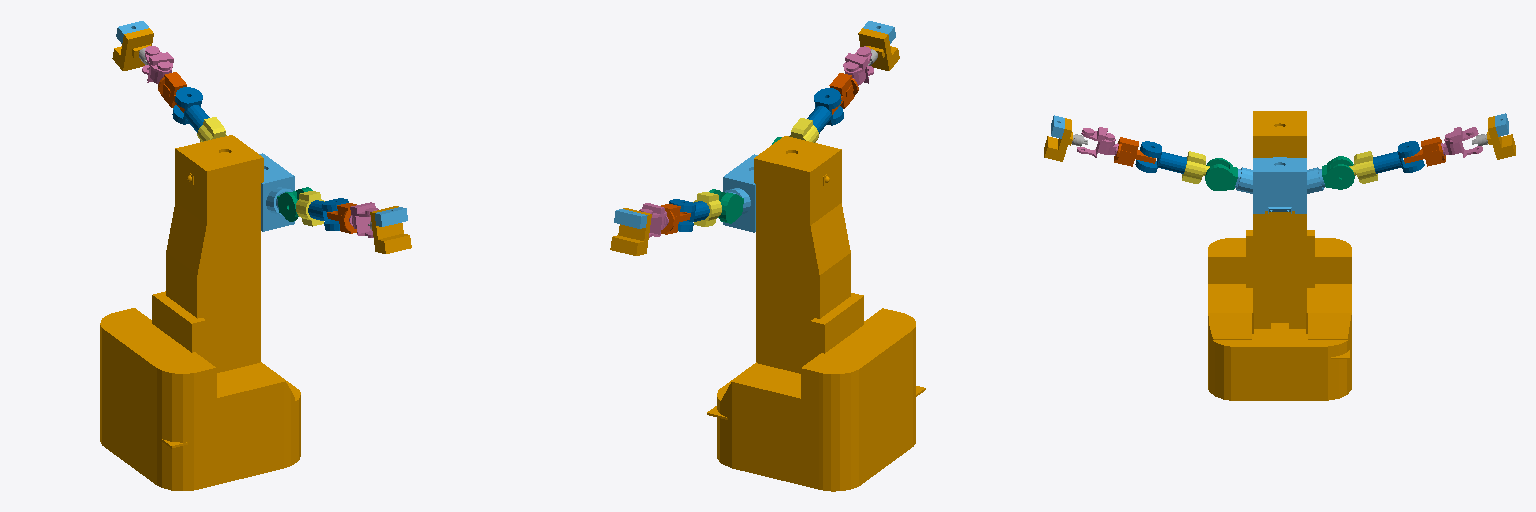
robot.urdf — generated_robot:
<?xml version='1.0' encoding='utf-8'?>
<robot name="generated_robot">
  <link name="base_link">
    <inertial>
      <origin xyz="-0.035891877 -0.00063976382 0.2219163" rpy="0 0 0" />
      <mass value="979.84111" />
      <inertia ixx="289.50041" iyy="287.10522" izz="131.53072" ixy="0.03875322" ixz="-6.4197523" iyz="-0.18155826" />
    </inertial>
    <visual>
      <origin xyz="0 0 0" rpy="0 0 0" />
      <geometry>
        <mesh filename="meshes/part_001_solid_001.stl" scale="0.001 0.001 0.001" />
      </geometry>
    </visual>
    <visual>
      <origin xyz="0 0 0" rpy="0 0 0" />
      <geometry>
        <mesh filename="meshes/part_004_solid_004.stl" scale="0.001 0.001 0.001" />
      </geometry>
    </visual>
    <collision>
      <origin xyz="0 0 0" rpy="0 0 0" />
      <geometry>
        <mesh filename="meshes/part_001_solid_001.stl" scale="0.001 0.001 0.001" />
      </geometry>
    </collision>
    <collision>
      <origin xyz="0 0 0" rpy="0 0 0" />
      <geometry>
        <mesh filename="meshes/part_004_solid_004.stl" scale="0.001 0.001 0.001" />
      </geometry>
    </collision>
  </link>
  <link name="up and down_link">
    <inertial>
      <origin xyz="0.23031115 0 0.32236372" rpy="0 0 0" />
      <mass value="40.56585" />
      <inertia ixx="1.1187893" iyy="0.82689098" izz="1.184021" ixy="0.00048364865" ixz="0.012063475" iyz="-6.4491176e-12" />
    </inertial>
    <visual>
      <origin xyz="-0.174 0 1.66" rpy="-3.1415927 0 0" />
      <geometry>
        <mesh filename="meshes/part_002_solid_002.stl" scale="0.001 0.001 0.001" />
      </geometry>
    </visual>
    <visual>
      <origin xyz="-0.174 0 1.66" rpy="-3.1415927 0 0" />
      <geometry>
        <mesh filename="meshes/part_003_solid_003.stl" scale="0.001 0.001 0.001" />
      </geometry>
    </visual>
    <visual>
      <origin xyz="-0.174 0 1.66" rpy="-3.1415927 0 0" />
      <geometry>
        <mesh filename="meshes/part_015_solid_015.stl" scale="0.001 0.001 0.001" />
      </geometry>
    </visual>
    <visual>
      <origin xyz="-0.174 0 1.66" rpy="-3.1415927 0 0" />
      <geometry>
        <mesh filename="meshes/part_005_solid_005.stl" scale="0.001 0.001 0.001" />
      </geometry>
    </visual>
    <collision>
      <origin xyz="-0.174 0 1.66" rpy="-3.1415927 0 0" />
      <geometry>
        <mesh filename="meshes/part_002_solid_002.stl" scale="0.001 0.001 0.001" />
      </geometry>
    </collision>
    <collision>
      <origin xyz="-0.174 0 1.66" rpy="-3.1415927 0 0" />
      <geometry>
        <mesh filename="meshes/part_003_solid_003.stl" scale="0.001 0.001 0.001" />
      </geometry>
    </collision>
    <collision>
      <origin xyz="-0.174 0 1.66" rpy="-3.1415927 0 0" />
      <geometry>
        <mesh filename="meshes/part_015_solid_015.stl" scale="0.001 0.001 0.001" />
      </geometry>
    </collision>
    <collision>
      <origin xyz="-0.174 0 1.66" rpy="-3.1415927 0 0" />
      <geometry>
        <mesh filename="meshes/part_005_solid_005.stl" scale="0.001 0.001 0.001" />
      </geometry>
    </collision>
  </link>
  <link name="left_link1">
    <inertial>
      <origin xyz="-0.017588 0.002883761 0.13899444" rpy="0 0 0" />
      <mass value="11.831" />
      <inertia ixx="0.049622545" iyy="0.049222129" izz="0.041085099" ixy="5.5803149e-06" ixz="-0.0031526704" iyz="-0.0026717967" />
    </inertial>
    <visual>
      <origin xyz="-0.44 1.2660863 -0.64003822" rpy="1.3089969 0 0" />
      <geometry>
        <mesh filename="meshes/part_006_solid_006.stl" scale="0.001 0.001 0.001" />
      </geometry>
    </visual>
    <collision>
      <origin xyz="-0.44 1.2660863 -0.64003822" rpy="1.3089969 0 0" />
      <geometry>
        <mesh filename="meshes/part_006_solid_006.stl" scale="0.001 0.001 0.001" />
      </geometry>
    </collision>
  </link>
  <link name="left_link2">
    <inertial>
      <origin xyz="0.16343723 0.040788935 3.4e-05" rpy="0 0 0" />
      <mass value="8.774" />
      <inertia ixx="0.02972471" iyy="0.036476221" izz="0.045544007" ixy="0.001951729" ixz="-3.9166e-05" iyz="-1.035e-05" />
    </inertial>
    <visual>
      <origin xyz="-0.43583677 -1.4275311 -0.43819" rpy="0 -1.5707963 -1.5707963" />
      <geometry>
        <mesh filename="meshes/part_007_solid_007.stl" scale="0.001 0.001 0.001" />
      </geometry>
    </visual>
    <collision>
      <origin xyz="-0.43583677 -1.4275311 -0.43819" rpy="0 -1.5707963 -1.5707963" />
      <geometry>
        <mesh filename="meshes/part_007_solid_007.stl" scale="0.001 0.001 0.001" />
      </geometry>
    </collision>
  </link>
  <link name="left_link3">
    <inertial>
      <origin xyz="3.2e-05 0.0083087217 0.23375814" rpy="0 0 0" />
      <mass value="9.328" />
      <inertia ixx="0.066434904" iyy="0.055916807" izz="0.035433841" ixy="7.18277e-06" ixz="1.3426458e-05" iyz="-0.015437853" />
    </inertial>
    <visual>
      <origin xyz="-0.43819 1.2660863 -1.0364582" rpy="1.3089969 0 0" />
      <geometry>
        <mesh filename="meshes/part_008_solid_008.stl" scale="0.001 0.001 0.001" />
      </geometry>
    </visual>
    <collision>
      <origin xyz="-0.43819 1.2660863 -1.0364582" rpy="1.3089969 0 0" />
      <geometry>
        <mesh filename="meshes/part_008_solid_008.stl" scale="0.001 0.001 0.001" />
      </geometry>
    </collision>
  </link>
  <link name="left_link4">
    <inertial>
      <origin xyz="7.748689e-05 0.1884245 -0.087878585" rpy="0 0 0" />
      <mass value="3.715" />
      <inertia ixx="0.016589853" iyy="0.010227701" izz="0.012859449" ixy="5.454538e-07" ixz="8.4564068e-07" iyz="0.001262136" />
    </inertial>
    <visual>
      <origin xyz="-0.43814751 -1.2964582 -1.3490863" rpy="-0.26179939 0 0" />
      <geometry>
        <mesh filename="meshes/part_009_solid_009.stl" scale="0.001 0.001 0.001" />
      </geometry>
    </visual>
    <collision>
      <origin xyz="-0.43814751 -1.2964582 -1.3490863" rpy="-0.26179939 0 0" />
      <geometry>
        <mesh filename="meshes/part_009_solid_009.stl" scale="0.001 0.001 0.001" />
      </geometry>
    </collision>
  </link>
  <link name="left_link5">
    <inertial>
      <origin xyz="-0.0017945131 -0.019052905 0.10062789" rpy="0 0 0" />
      <mass value="3.025" />
      <inertia ixx="0.01246249" iyy="0.0093224911" izz="0.0072290369" ixy="0.0002982918" ixz="-7.5467492e-06" iyz="-0.0010860034" />
    </inertial>
    <visual>
      <origin xyz="-0.43814751 1.2633863 -1.5374582" rpy="1.3089969 0 0" />
      <geometry>
        <mesh filename="meshes/part_010_solid_010.stl" scale="0.001 0.001 0.001" />
      </geometry>
    </visual>
    <collision>
      <origin xyz="-0.43814751 1.2633863 -1.5374582" rpy="1.3089969 0 0" />
      <geometry>
        <mesh filename="meshes/part_010_solid_010.stl" scale="0.001 0.001 0.001" />
      </geometry>
    </collision>
  </link>
  <link name="left_link6">
    <inertial>
      <origin xyz="0.00016948689 0.0028965084 0.090446825" rpy="0 0 0" />
      <mass value="1.505" />
      <inertia ixx="0.002788544" iyy="0.0022428265" izz="0.0016395835" ixy="2.357831e-08" ixz="-3.227062e-06" iyz="-0.00072820817" />
    </inertial>
    <visual>
      <origin xyz="-0.43814751 -1.7704582 -1.1868863" rpy="-0.26179939 0 0" />
      <geometry>
        <mesh filename="meshes/part_011_solid_011.stl" scale="0.001 0.001 0.001" />
      </geometry>
    </visual>
    <visual>
      <origin xyz="-0.43814751 -1.7704582 -1.1868863" rpy="-0.26179939 0 0" />
      <geometry>
        <mesh filename="meshes/part_012_solid_012.stl" scale="0.001 0.001 0.001" />
      </geometry>
    </visual>
    <collision>
      <origin xyz="-0.43814751 -1.7704582 -1.1868863" rpy="-0.26179939 0 0" />
      <geometry>
        <mesh filename="meshes/part_011_solid_011.stl" scale="0.001 0.001 0.001" />
      </geometry>
    </collision>
    <collision>
      <origin xyz="-0.43814751 -1.7704582 -1.1868863" rpy="-0.26179939 0 0" />
      <geometry>
        <mesh filename="meshes/part_012_solid_012.stl" scale="0.001 0.001 0.001" />
      </geometry>
    </collision>
  </link>
  <link name="left_link7">
    <inertial>
      <origin xyz="0.0097701294 0.050379785 0.071005849" rpy="0 0 0" />
      <mass value="4.968" />
      <inertia ixx="0.0279909" iyy="0.022648577" izz="0.019035966" ixy="0.001304963" ixz="-3.289197e-05" iyz="0.0061387137" />
    </inertial>
    <visual>
      <origin xyz="-0.43814751 1.2623863 -1.8696582" rpy="1.3089969 0 0" />
      <geometry>
        <mesh filename="meshes/part_013_solid_013.stl" scale="0.001 0.001 0.001" />
      </geometry>
    </visual>
    <collision>
      <origin xyz="-0.43814751 1.2623863 -1.8696582" rpy="1.3089969 0 0" />
      <geometry>
        <mesh filename="meshes/part_013_solid_013.stl" scale="0.001 0.001 0.001" />
      </geometry>
    </collision>
  </link>
  <link name="left hand">
    <inertial>
      <origin xyz="0.04806359 0.012259484 0.058890178" rpy="0 0 0" />
      <mass value="0.086" />
      <inertia ixx="0.000118897" iyy="0.00031015322" izz="0.00035148778" ixy="6.8771657e-05" ixz="3.075245e-05" iyz="1.3350229e-05" />
    </inertial>
    <visual>
      <origin xyz="-0.42314741 1.9924082 1.3723863" rpy="2.8797933 0 0" />
      <geometry>
        <mesh filename="meshes/part_014_solid_014.stl" scale="0.001 0.001 0.001" />
      </geometry>
    </visual>
    <collision>
      <origin xyz="-0.42314741 1.9924082 1.3723863" rpy="2.8797933 0 0" />
      <geometry>
        <mesh filename="meshes/part_014_solid_014.stl" scale="0.001 0.001 0.001" />
      </geometry>
    </collision>
  </link>
  <link name="right_link1">
    <inertial>
      <origin xyz="-0.017588 -0.0028841869 0.13899443" rpy="0 0 0" />
      <mass value="11.831" />
      <inertia ixx="0.049622545" iyy="0.049222113" izz="0.041085115" ixy="-5.5706526e-06" ixz="-0.0031526704" iyz="0.0026718216" />
    </inertial>
    <visual>
      <origin xyz="-0.44 -1.2660863 -0.64003822" rpy="-1.3089969 0 0" />
      <geometry>
        <mesh filename="meshes/part_016_solid_016.stl" scale="0.001 0.001 0.001" />
      </geometry>
    </visual>
    <collision>
      <origin xyz="-0.44 -1.2660863 -0.64003822" rpy="-1.3089969 0 0" />
      <geometry>
        <mesh filename="meshes/part_016_solid_016.stl" scale="0.001 0.001 0.001" />
      </geometry>
    </collision>
  </link>
  <link name="right_link2">
    <inertial>
      <origin xyz="-0.16343723 0.040788935 -0.001776" rpy="0 0 0" />
      <mass value="8.774" />
      <inertia ixx="0.02972471" iyy="0.036476221" izz="0.045544007" ixy="-0.001951729" ixz="3.9166e-05" iyz="-1.035e-05" />
    </inertial>
    <visual>
      <origin xyz="0.43583677 -1.4275311 -0.44" rpy="0 -1.5707963 -1.5707963" />
      <geometry>
        <mesh filename="meshes/part_017_solid_017.stl" scale="0.001 0.001 0.001" />
      </geometry>
    </visual>
    <collision>
      <origin xyz="0.43583677 -1.4275311 -0.44" rpy="0 -1.5707963 -1.5707963" />
      <geometry>
        <mesh filename="meshes/part_017_solid_017.stl" scale="0.001 0.001 0.001" />
      </geometry>
    </collision>
  </link>
  <link name="right_link3">
    <inertial>
      <origin xyz="-0.003588 -0.0083087217 0.23375814" rpy="0 0 0" />
      <mass value="9.328" />
      <inertia ixx="0.066434904" iyy="0.055916807" izz="0.035433841" ixy="-7.18277e-06" ixz="1.3426458e-05" iyz="0.015437853" />
    </inertial>
    <visual>
      <origin xyz="-0.44181 -1.2660863 -1.0364582" rpy="-1.3089969 0 0" />
      <geometry>
        <mesh filename="meshes/part_018_solid_018.stl" scale="0.001 0.001 0.001" />
      </geometry>
    </visual>
    <collision>
      <origin xyz="-0.44181 -1.2660863 -1.0364582" rpy="-1.3089969 0 0" />
      <geometry>
        <mesh filename="meshes/part_018_solid_018.stl" scale="0.001 0.001 0.001" />
      </geometry>
    </collision>
  </link>
  <link name="right_link4">
    <inertial>
      <origin xyz="-0.0036274869 -0.1884245 -0.087878585" rpy="0 0 0" />
      <mass value="3.715" />
      <inertia ixx="0.016589853" iyy="0.010227701" izz="0.012859449" ixy="-5.454538e-07" ixz="8.4564068e-07" iyz="-0.001262136" />
    </inertial>
    <visual>
      <origin xyz="-0.44185249 1.2964582 -1.3490863" rpy="0.26179939 0 0" />
      <geometry>
        <mesh filename="meshes/part_019_solid_019.stl" scale="0.001 0.001 0.001" />
      </geometry>
    </visual>
    <collision>
      <origin xyz="-0.44185249 1.2964582 -1.3490863" rpy="0.26179939 0 0" />
      <geometry>
        <mesh filename="meshes/part_019_solid_019.stl" scale="0.001 0.001 0.001" />
      </geometry>
    </collision>
  </link>
  <link name="right_link5">
    <inertial>
      <origin xyz="-0.0054994869 0.019052905 0.10062789" rpy="0 0 0" />
      <mass value="3.025" />
      <inertia ixx="0.01246249" iyy="0.0093224911" izz="0.0072290369" ixy="-0.0002982918" ixz="-7.5467492e-06" iyz="0.0010860034" />
    </inertial>
    <visual>
      <origin xyz="-0.44185249 -1.2633863 -1.5374582" rpy="-1.3089969 0 0" />
      <geometry>
        <mesh filename="meshes/part_020_solid_020.stl" scale="0.001 0.001 0.001" />
      </geometry>
    </visual>
    <collision>
      <origin xyz="-0.44185249 -1.2633863 -1.5374582" rpy="-1.3089969 0 0" />
      <geometry>
        <mesh filename="meshes/part_020_solid_020.stl" scale="0.001 0.001 0.001" />
      </geometry>
    </collision>
  </link>
  <link name="right_link6">
    <inertial>
      <origin xyz="-0.0035354869 -0.0028965084 0.090446825" rpy="0 0 0" />
      <mass value="1.505" />
      <inertia ixx="0.002788544" iyy="0.0022428265" izz="0.0016395835" ixy="-2.357831e-08" ixz="-3.227062e-06" iyz="0.00072820817" />
    </inertial>
    <visual>
      <origin xyz="-0.44185249 1.7704582 -1.1868863" rpy="0.26179939 0 0" />
      <geometry>
        <mesh filename="meshes/part_021_solid_021.stl" scale="0.001 0.001 0.001" />
      </geometry>
    </visual>
    <visual>
      <origin xyz="-0.44185249 1.7704582 -1.1868863" rpy="0.26179939 0 0" />
      <geometry>
        <mesh filename="meshes/part_022_solid_022.stl" scale="0.001 0.001 0.001" />
      </geometry>
    </visual>
    <collision>
      <origin xyz="-0.44185249 1.7704582 -1.1868863" rpy="0.26179939 0 0" />
      <geometry>
        <mesh filename="meshes/part_021_solid_021.stl" scale="0.001 0.001 0.001" />
      </geometry>
    </collision>
    <collision>
      <origin xyz="-0.44185249 1.7704582 -1.1868863" rpy="0.26179939 0 0" />
      <geometry>
        <mesh filename="meshes/part_022_solid_022.stl" scale="0.001 0.001 0.001" />
      </geometry>
    </collision>
  </link>
  <link name="right_link7">
    <inertial>
      <origin xyz="0.0060651556 -0.050379785 0.071005849" rpy="0 0 0" />
      <mass value="4.968" />
      <inertia ixx="0.0279909" iyy="0.022648577" izz="0.019035966" ixy="-0.001304963" ixz="-3.289197e-05" iyz="-0.0061387137" />
    </inertial>
    <visual>
      <origin xyz="-0.44185249 -1.2623863 -1.8696582" rpy="-1.3089969 0 0" />
      <geometry>
        <mesh filename="meshes/part_023_solid_023.stl" scale="0.001 0.001 0.001" />
      </geometry>
    </visual>
    <collision>
      <origin xyz="-0.44185249 -1.2623863 -1.8696582" rpy="-1.3089969 0 0" />
      <geometry>
        <mesh filename="meshes/part_023_solid_023.stl" scale="0.001 0.001 0.001" />
      </geometry>
    </collision>
  </link>
  <link name="right hand">
    <inertial>
      <origin xyz="0.01435841 -0.012259484 0.058890178" rpy="0 0 0" />
      <mass value="0.086" />
      <inertia ixx="0.000118897" iyy="0.00031015322" izz="0.00035148778" ixy="-6.8771657e-05" ixz="3.075245e-05" iyz="-1.3350229e-05" />
    </inertial>
    <visual>
      <origin xyz="-0.45685259 -1.9924082 1.3723863" rpy="-2.8797933 0 0" />
      <geometry>
        <mesh filename="meshes/part_024_solid_024.stl" scale="0.001 0.001 0.001" />
      </geometry>
    </visual>
    <collision>
      <origin xyz="-0.45685259 -1.9924082 1.3723863" rpy="-2.8797933 0 0" />
      <geometry>
        <mesh filename="meshes/part_024_solid_024.stl" scale="0.001 0.001 0.001" />
      </geometry>
    </collision>
  </link>
  <joint name="up and down_joint" type="prismatic">
    <origin xyz="0.174 0 1.66" rpy="3.1415927 0 0" />
    <parent link="base_link" />
    <child link="up and down_link" />
    <axis xyz="0 0 1" />
    <limit lower="0" upper="1" effort="10" velocity="5" />
  </joint>
  <joint name="left_link1_joint" type="revolute">
    <origin xyz="0.266 -0.29054221 0.2714005" rpy="1.8325957 0 0" />
    <parent link="up and down_link" />
    <child link="left_link1" />
    <axis xyz="0 0 1" />
    <limit lower="-1.57" upper="1.57" effort="10" velocity="5" />
  </joint>
  <joint name="left_link2_joint" type="revolute">
    <origin xyz="-0.00181 5.2471986e-10 0.15042" rpy="1.5707963 -1.3089969 1.5707963" />
    <parent link="left_link1" />
    <child link="left_link2" />
    <axis xyz="0 0 1" />
    <limit lower="-1.57" upper="1.57" effort="10" velocity="5" />
  </joint>
  <joint name="left_link3_joint" type="revolute">
    <origin xyz="0.23761775 0.063669485 0" rpy="0 -1.5707963 -2.8797933" />
    <parent link="left_link2" />
    <child link="left_link3" />
    <axis xyz="0 0 1" />
    <limit lower="-1.57" upper="1.57" effort="10" velocity="5" />
  </joint>
  <joint name="left_link4_joint" type="revolute">
    <origin xyz="-4.248689e-05 -0.082999999 0.26" rpy="1.5707963 0 0" />
    <parent link="left_link3" />
    <child link="left_link4" />
    <axis xyz="0 0 1" />
    <limit lower="-1.57" upper="1.57" effort="10" velocity="5" />
  </joint>
  <joint name="left_link5_joint" type="revolute">
    <origin xyz="0 0.241 -0.085700001" rpy="-1.5707963 0 0" />
    <parent link="left_link4" />
    <child link="left_link5" />
    <axis xyz="0 0 1" />
    <limit lower="-1.57" upper="1.57" effort="10" velocity="5" />
  </joint>
  <joint name="left_link6_joint" type="revolute">
    <origin xyz="0 0.076500001 0.233" rpy="1.5707963 0 0" />
    <parent link="left_link5" />
    <child link="left_link6" />
    <axis xyz="0 0 1" />
    <limit lower="-1.57" upper="1.57" effort="10" velocity="5" />
  </joint>
  <joint name="left_link7_joint" type="revolute">
    <origin xyz="0 0.0992 0.0755" rpy="-1.5707963 0 0" />
    <parent link="left_link6" />
    <child link="left_link7" />
    <axis xyz="0 0 1" />
    <limit lower="-1.57" upper="1.57" effort="10" velocity="5" />
  </joint>
  <joint name="left hand_joint" type="prismatic">
    <origin xyz="-0.015000103 -0.11 0.12275" rpy="-1.5707963 0 0" />
    <parent link="left_link7" />
    <child link="left hand" />
    <axis xyz="0 0 1" />
    <limit lower="0" upper="0.09" effort="10" velocity="5" />
  </joint>
  <joint name="right_link1_joint" type="revolute">
    <origin xyz="0.266 0.29054221 0.2714005" rpy="-1.8325957 0 0" />
    <parent link="up and down_link" />
    <child link="right_link1" />
    <axis xyz="0 0 1" />
    <limit lower="-1.57" upper="1.57" effort="10" velocity="5" />
  </joint>
  <joint name="right_link2_joint" type="revolute">
    <origin xyz="0 -5.2471986e-10 0.15042" rpy="1.5707963 1.3089969 1.5707963" />
    <parent link="right_link1" />
    <child link="right_link2" />
    <axis xyz="0 0 1" />
    <limit lower="-1.57" upper="1.57" effort="10" velocity="5" />
  </joint>
  <joint name="right_link3_joint" type="revolute">
    <origin xyz="-0.23761775 0.063669485 0.00181" rpy="0 -1.5707963 -0.26179939" />
    <parent link="right_link2" />
    <child link="right_link3" />
    <axis xyz="0 0 1" />
    <limit lower="-1.57" upper="1.57" effort="10" velocity="5" />
  </joint>
  <joint name="right_link4_joint" type="revolute">
    <origin xyz="4.248689e-05 0.082999999 0.26" rpy="-1.5707963 0 0" />
    <parent link="right_link3" />
    <child link="right_link4" />
    <axis xyz="0 0 1" />
    <limit lower="-1.57" upper="1.57" effort="10" velocity="5" />
  </joint>
  <joint name="right_link5_joint" type="revolute">
    <origin xyz="0 -0.241 -0.085700001" rpy="1.5707963 0 0" />
    <parent link="right_link4" />
    <child link="right_link5" />
    <axis xyz="0 0 1" />
    <limit lower="-1.57" upper="1.57" effort="10" velocity="5" />
  </joint>
  <joint name="right_link6_joint" type="revolute">
    <origin xyz="0 -0.076500001 0.233" rpy="-1.5707963 0 0" />
    <parent link="right_link5" />
    <child link="right_link6" />
    <axis xyz="0 0 1" />
    <limit lower="-1.57" upper="1.57" effort="10" velocity="5" />
  </joint>
  <joint name="right_link7_joint" type="revolute">
    <origin xyz="0 -0.0992 0.0755" rpy="1.5707963 0 0" />
    <parent link="right_link6" />
    <child link="right_link7" />
    <axis xyz="0 0 1" />
    <limit lower="-1.57" upper="1.57" effort="10" velocity="5" />
  </joint>
  <joint name="right hand_joint" type="prismatic">
    <origin xyz="0.015000103 0.11 0.12275" rpy="1.5707963 0 0" />
    <parent link="right_link7" />
    <child link="right hand" />
    <axis xyz="0 0 1" />
    <limit lower="0" upper="0.09" effort="10" velocity="5" />
  </joint>
</robot>

--- Render facts (derived) ---
3 views of the same robot in one strip: view 1: azimuth 30°, elevation 25°; view 2: azimuth 150°, elevation 25°; view 3: azimuth 270°, elevation 25° (orthographic).
Robot: generated_robot — 18 links, 17 joints (14 revolute, 3 prismatic); root link base_link; default pose: all joints at 0.
Links seen in each view (by area): view 1: base_link, up and down_link, left_link7, left_link3, right_link7, left_link5, right_link3, right_link5, left_link4, right_link1, right_link2; view 2: base_link, up and down_link, left_link7, right_link3, right_link7, right_link5, left_link3, left_link1, right_link4, left_link5, left_link2; view 3: base_link, up and down_link, left_link3, right_link3, right_link1, left_link1, left_link5, right_link5, left_link7, right_link7, left_link4, right_link4 (+2 smaller).
Boxes of the visible links, <box> form: base_link: <box>100,135,300,490</box>; up and down_link: <box>259,153,294,231</box>; left_link7: <box>112,28,153,70</box>; left_link3: <box>172,87,209,132</box>; right_link7: <box>370,206,411,253</box>; left_link5: <box>142,46,173,83</box>; right_link3: <box>308,198,348,230</box>; right_link5: <box>349,202,378,237</box>; left_link4: <box>158,72,186,112</box>; right_link1: <box>277,187,312,221</box>; right_link2: <box>296,191,324,226</box>; base_link: <box>707,136,925,491</box>; up and down_link: <box>723,154,757,232</box>; left_link7: <box>610,208,651,255</box>; right_link3: <box>807,88,843,133</box>; right_link7: <box>858,28,899,70</box>; right_link5: <box>843,46,873,85</box>; left_link3: <box>669,199,709,231</box>; left_link1: <box>709,189,743,223</box>; right_link4: <box>829,73,858,114</box>; left_link5: <box>639,203,668,237</box>; left_link2: <box>693,192,721,226</box>; base_link: <box>1208,111,1351,400</box>; up and down_link: <box>1235,157,1324,213</box>; left_link3: <box>1373,141,1424,173</box>; right_link3: <box>1135,141,1186,173</box>; right_link1: <box>1205,158,1237,190</box>; left_link1: <box>1322,156,1354,189</box>; left_link5: <box>1441,127,1482,157</box>; right_link5: <box>1077,127,1118,157</box>; left_link7: <box>1487,116,1515,159</box>; right_link7: <box>1044,118,1072,161</box>; left_link4: <box>1404,137,1445,166</box>; right_link4: <box>1114,137,1155,166</box>.
Bounding box of the posed robot: 1.07 × 3.35 × 2.17 m (x, y, z).
Meshes: 24 distinct files referenced, 24 mesh visuals loaded (24 binary STL).
